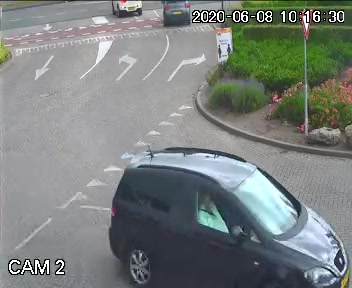car: (103, 143, 352, 288), (157, 0, 193, 29), (105, 0, 146, 23)
